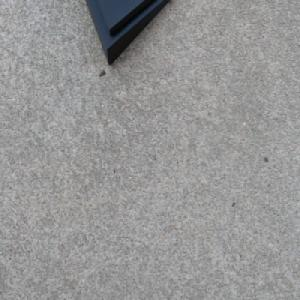PlasticPart: (83, 0, 174, 68)
